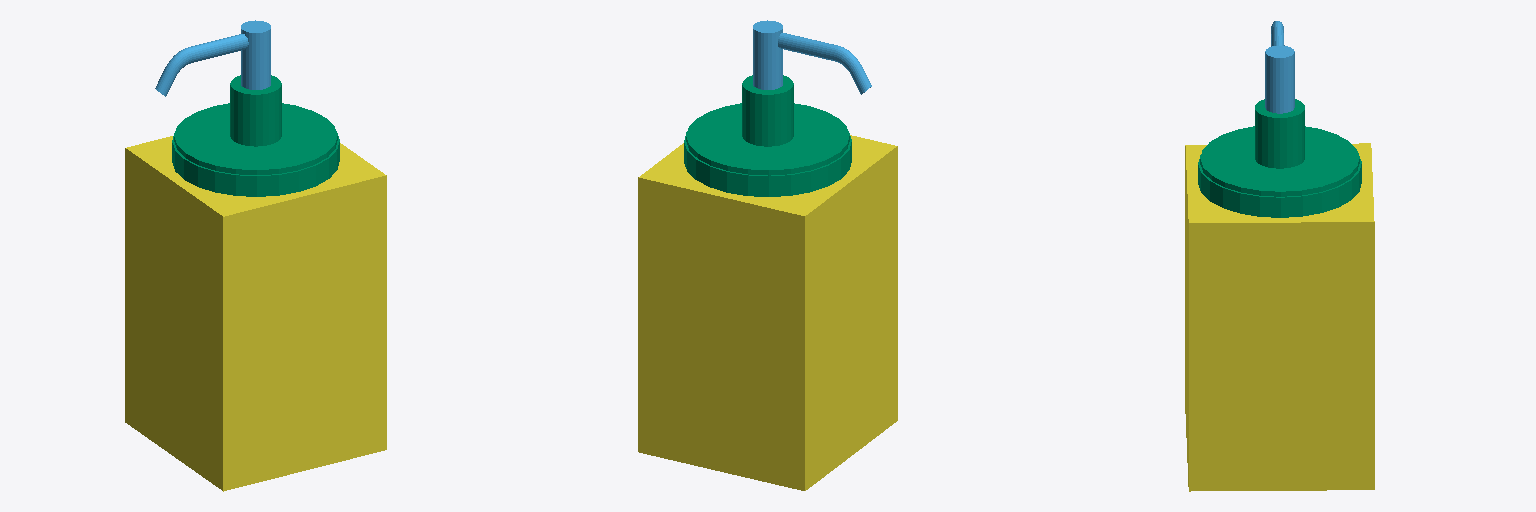
The robot description file, URDF, robot "partnet_u67595d10-87df-480a-be52-7a390005c95e-0":
<?xml version="1.0" ?>
<robot name="partnet_u67595d10-87df-480a-be52-7a390005c95e-0">
	<link name="base"/>
	<link name="link_0">
		<visual name="pressing_lid-1">
			<origin xyz="0.005772907250754594 0 0.005233077245253221"/>
			<geometry>
				<mesh filename="textured_objs/original-12.obj"/>
			</geometry>
		</visual>
		<visual name="pressing_lid-1">
			<origin xyz="0.005772907250754594 0 0.005233077245253221"/>
			<geometry>
				<mesh filename="textured_objs/original-11.obj"/>
			</geometry>
		</visual>
		<visual name="pressing_lid-1">
			<origin xyz="0.005772907250754594 0 0.005233077245253221"/>
			<geometry>
				<mesh filename="textured_objs/original-9.obj"/>
			</geometry>
		</visual>
		<visual name="pressing_lid-1">
			<origin xyz="0.005772907250754594 0 0.005233077245253221"/>
			<geometry>
				<mesh filename="textured_objs/original-7.obj"/>
			</geometry>
		</visual>
		<visual name="pressing_lid-1">
			<origin xyz="0.005772907250754594 0 0.005233077245253221"/>
			<geometry>
				<mesh filename="textured_objs/original-10.obj"/>
			</geometry>
		</visual>
		<collision>
			<origin xyz="0.005772907250754594 0 0.005233077245253221"/>
			<geometry>
				<mesh filename="textured_objs/original-12.obj"/>
			</geometry>
		</collision>
		<collision>
			<origin xyz="0.005772907250754594 0 0.005233077245253221"/>
			<geometry>
				<mesh filename="textured_objs/original-11.obj"/>
			</geometry>
		</collision>
		<collision>
			<origin xyz="0.005772907250754594 0 0.005233077245253221"/>
			<geometry>
				<mesh filename="textured_objs/original-9.obj"/>
			</geometry>
		</collision>
		<collision>
			<origin xyz="0.005772907250754594 0 0.005233077245253221"/>
			<geometry>
				<mesh filename="textured_objs/original-7.obj"/>
			</geometry>
		</collision>
		<collision>
			<origin xyz="0.005772907250754594 0 0.005233077245253221"/>
			<geometry>
				<mesh filename="textured_objs/original-10.obj"/>
			</geometry>
		</collision>
	</link>
	<joint name="joint_0" type="continuous">
		<origin xyz="0.0 0 0.0"/>
		<axis xyz="0 1 0"/>
		<child link="link_0"/>
		<parent link="link_0_helper"/>
	</joint>
	<link name="link_1">
		<visual name="head-3">
			<origin xyz="0.005773500000000015 0 0.005233499999999974"/>
			<geometry>
				<mesh filename="textured_objs/original-5.obj"/>
			</geometry>
		</visual>
		<visual name="head-3">
			<origin xyz="0.005773500000000015 0 0.005233499999999974"/>
			<geometry>
				<mesh filename="textured_objs/original-4.obj"/>
			</geometry>
		</visual>
		<visual name="head-3">
			<origin xyz="0.005773500000000015 0 0.005233499999999974"/>
			<geometry>
				<mesh filename="textured_objs/original-6.obj"/>
			</geometry>
		</visual>
		<collision>
			<origin xyz="0.005773500000000015 0 0.005233499999999974"/>
			<geometry>
				<mesh filename="textured_objs/original-5.obj"/>
			</geometry>
		</collision>
		<collision>
			<origin xyz="0.005773500000000015 0 0.005233499999999974"/>
			<geometry>
				<mesh filename="textured_objs/original-4.obj"/>
			</geometry>
		</collision>
		<collision>
			<origin xyz="0.005773500000000015 0 0.005233499999999974"/>
			<geometry>
				<mesh filename="textured_objs/original-6.obj"/>
			</geometry>
		</collision>
	</link>
	<joint name="joint_1" type="continuous">
		<origin xyz="0.0 0 0.0"/>
		<axis xyz="0 -1 0"/>
		<child link="link_1"/>
		<parent link="link_1_helper"/>
	</joint>
	<link name="link_2">
		<visual name="base_body-4">
			<origin xyz="0 0 0"/>
			<geometry>
				<mesh filename="textured_objs/original-3.obj"/>
			</geometry>
		</visual>
		<visual name="base_body-4">
			<origin xyz="0 0 0"/>
			<geometry>
				<mesh filename="textured_objs/original-2.obj"/>
			</geometry>
		</visual>
		<visual name="base_body-4">
			<origin xyz="0 0 0"/>
			<geometry>
				<mesh filename="textured_objs/original-1.obj"/>
			</geometry>
		</visual>
		<collision>
			<origin xyz="0 0 0"/>
			<geometry>
				<mesh filename="textured_objs/original-3.obj"/>
			</geometry>
		</collision>
		<collision>
			<origin xyz="0 0 0"/>
			<geometry>
				<mesh filename="textured_objs/original-2.obj"/>
			</geometry>
		</collision>
		<collision>
			<origin xyz="0 0 0"/>
			<geometry>
				<mesh filename="textured_objs/original-1.obj"/>
			</geometry>
		</collision>
	</link>
	<joint name="joint_2" type="fixed">
		<origin rpy="1.570796326794897 0 -1.570796326794897" xyz="0 0 0"/>
		<child link="link_2"/>
		<parent link="base"/>
	</joint>
	<link name="link_0_helper"/>
	<joint name="joint_3" type="prismatic">
		<origin xyz="5.927492454206942e-07 0 4.227547467528653e-07"/>
		<axis xyz="0 -1 0"/>
		<child link="link_0_helper"/>
		<parent link="link_1"/>
		<limit lower="0" upper="0.14"/>
	</joint>
	<link name="link_1_helper"/>
	<joint name="joint_4" type="prismatic">
		<origin xyz="-0.005773500000000015 0 -0.005233499999999974"/>
		<axis xyz="0 1 0"/>
		<child link="link_1_helper"/>
		<parent link="link_2"/>
		<limit lower="0" upper="0.02"/>
	</joint>
</robot>

--- Facts derived from the render (not from the file) ---
Views: 3 orthographic renders of the robot side by side, from view 1: azimuth 30°, elevation 25°; view 2: azimuth 150°, elevation 25°; view 3: azimuth 270°, elevation 25°.
Model partnet_u67595d10-87df-480a-be52-7a390005c95e-0 with 6 links and 5 joints (2 continuous, 2 prismatic, 1 fixed), rooted at base, posed every joint at zero.
Links seen in each view (by area): view 1: link_2, link_1, link_0; view 2: link_2, link_1, link_0; view 3: link_2, link_1, link_0.
Link boxes in pixels (x1,y1,x2,y2): link_2: (125,136,386,491); link_1: (172,75,339,196); link_0: (155,20,270,96); link_2: (638,135,897,490); link_1: (684,75,851,196); link_0: (753,20,871,94); link_2: (1185,143,1374,491); link_1: (1198,99,1361,217); link_0: (1265,21,1294,113).
Bounding box of the posed robot: 0.7983 × 0.7229 × 1.69 m (x, y, z).
Meshes: 11 distinct files referenced, 11 mesh visuals loaded (11 OBJ).